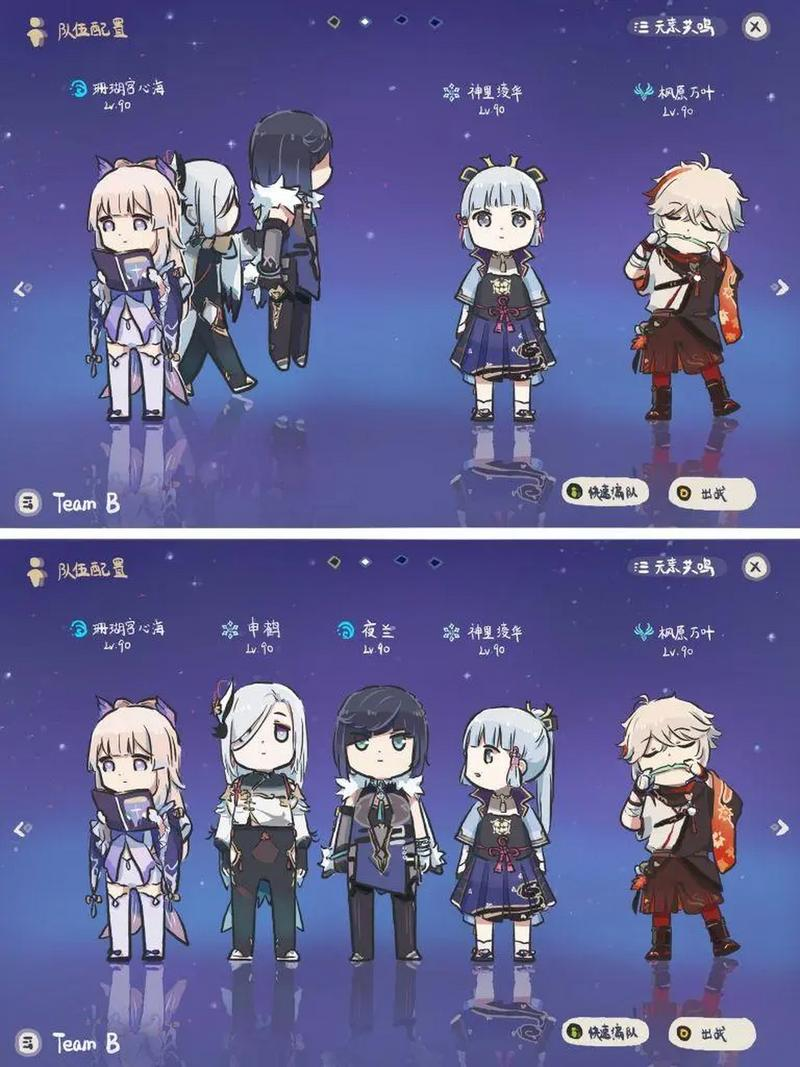夜兰: (318, 682, 452, 976), (249, 101, 340, 375)
